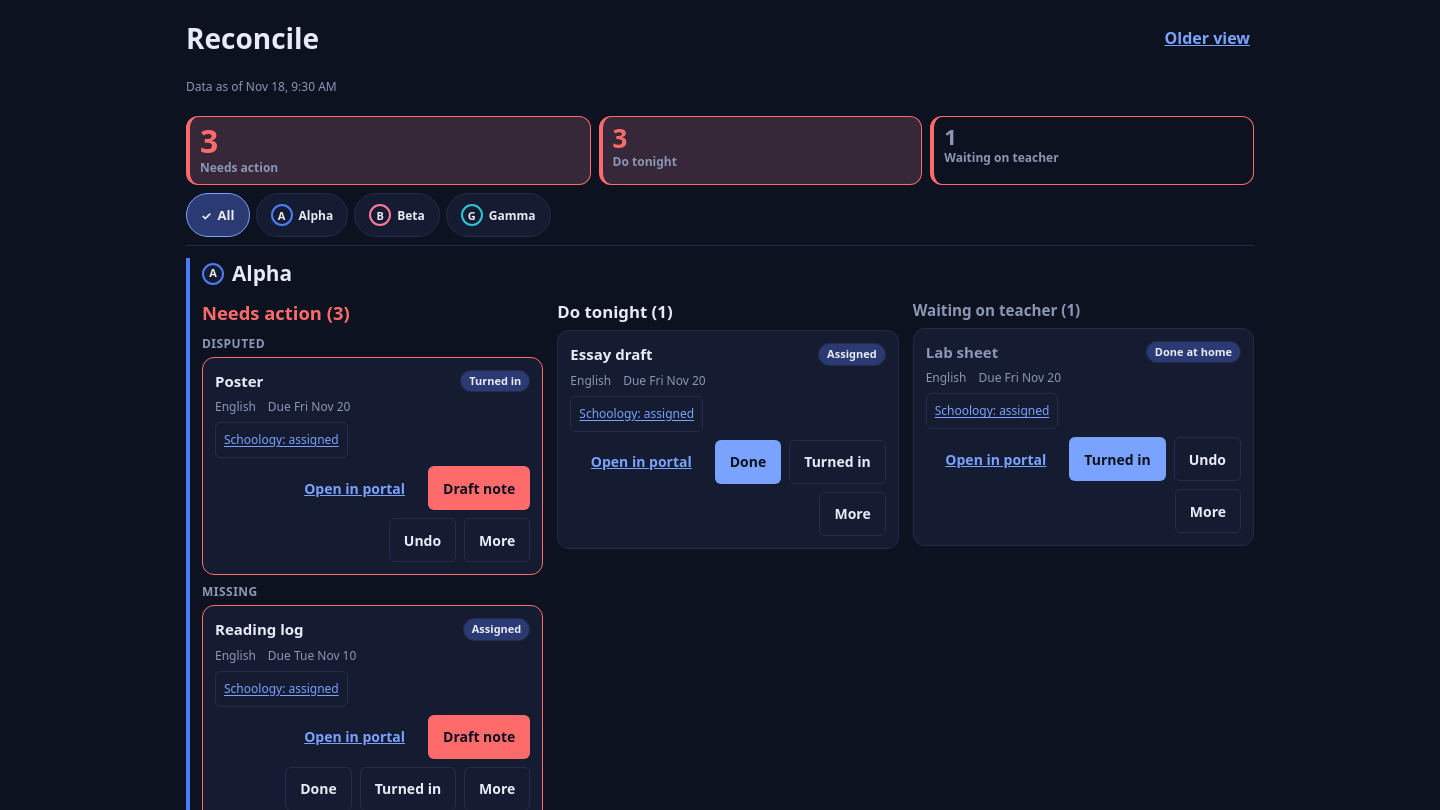
"I sent it" records sent_marked and closes
Check: the heading "Alpha" is shown, box [232,258,292,289]
Click the button with aria-label "Draft note for Poster (English, Alpha)" at {"x": 479, "y": 488}, box [428,466,530,510]
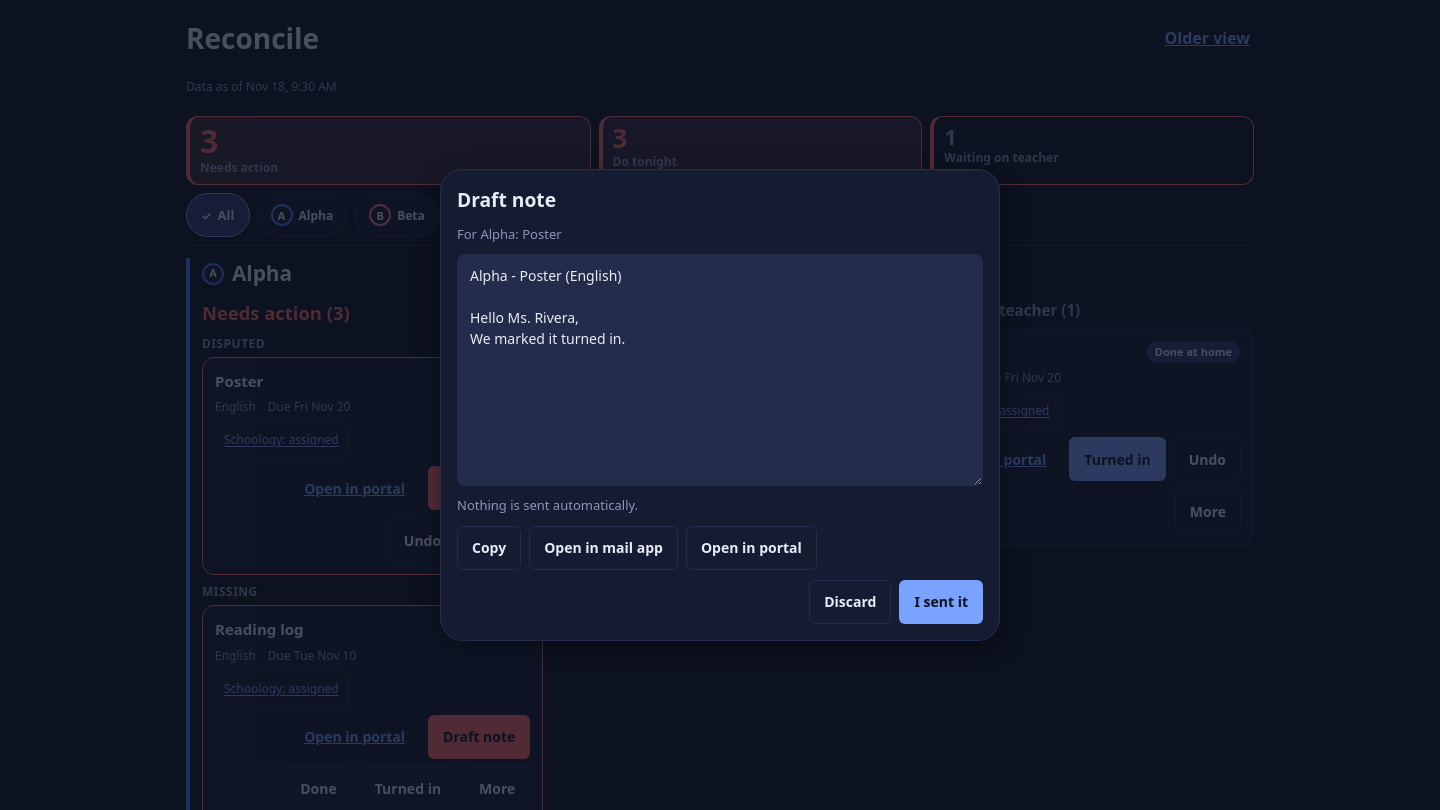
Click the button "I sent it" at {"x": 941, "y": 602}, box [899,580,983,624]
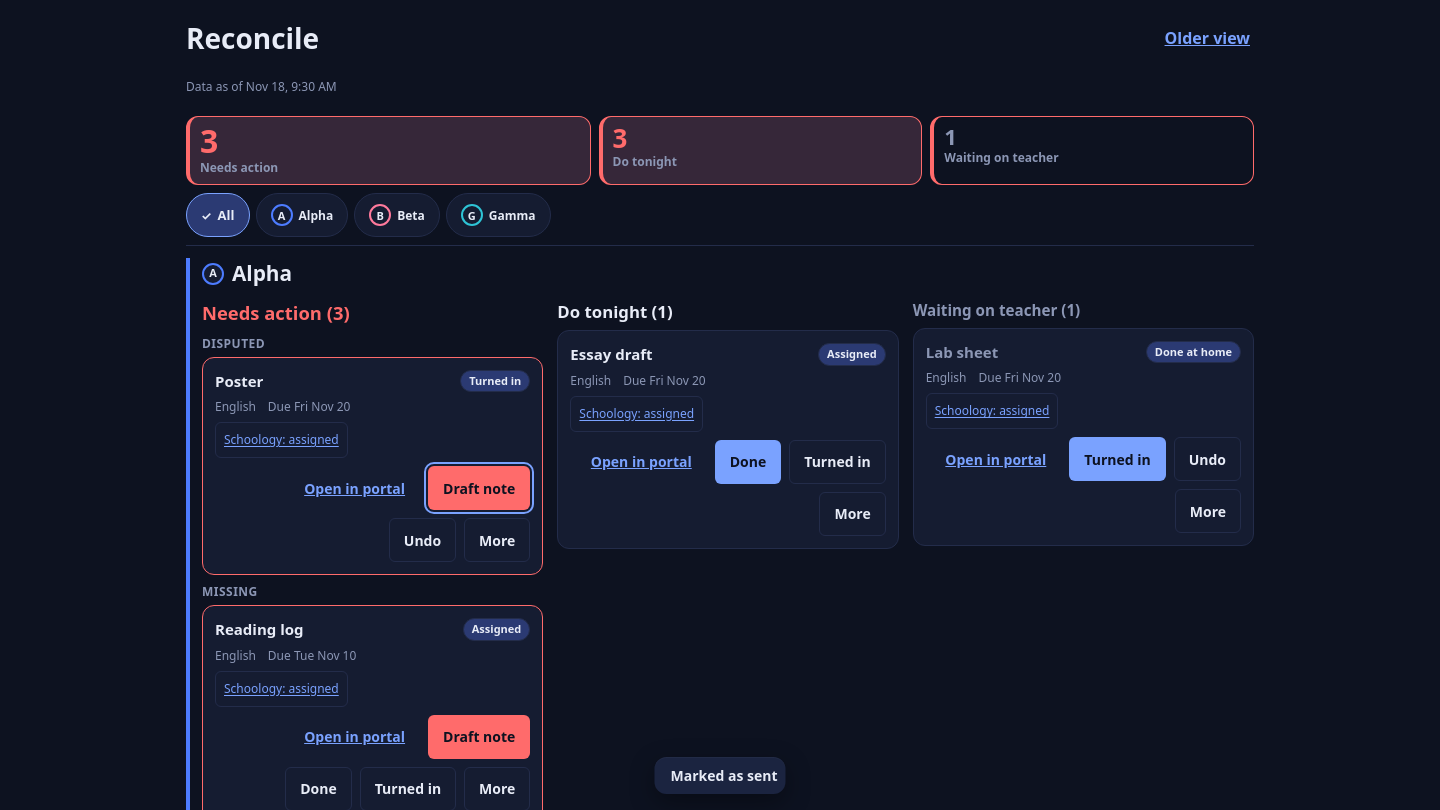
Check: the dialog is gone
